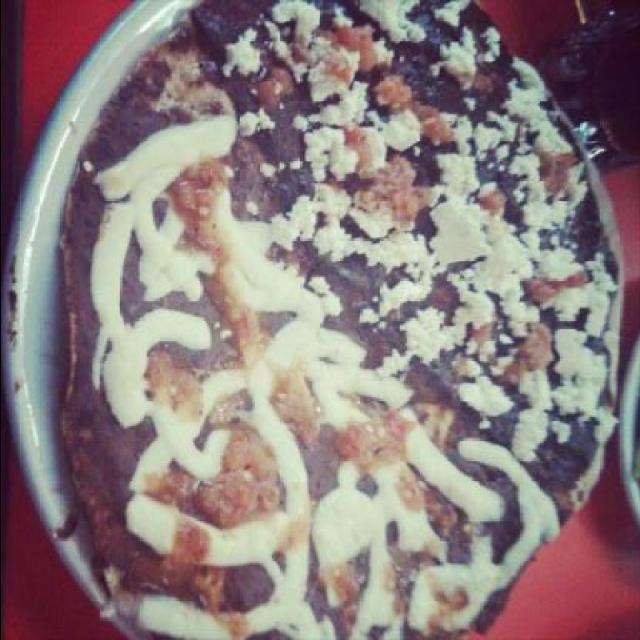Pizza: (20, 0, 586, 638)
